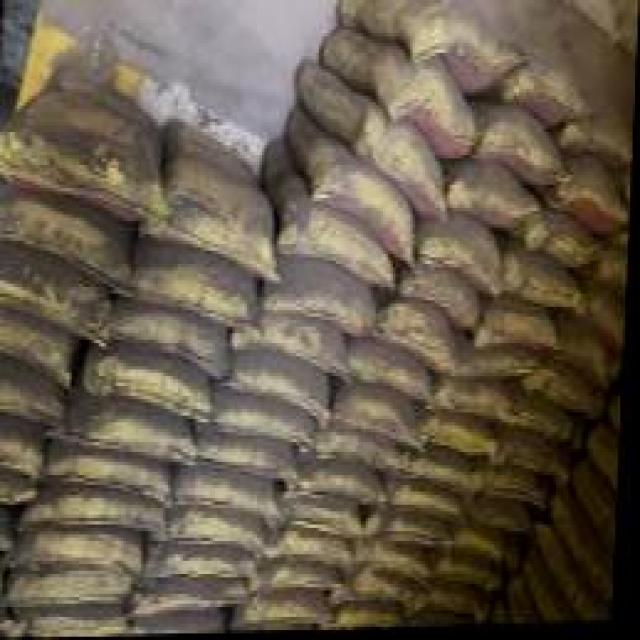gunny_bag: (296, 61, 445, 217), (319, 27, 474, 163), (0, 77, 147, 215), (148, 118, 276, 275), (263, 139, 394, 288), (287, 111, 417, 258), (337, 0, 512, 84), (0, 184, 130, 295), (0, 243, 112, 350), (134, 243, 260, 329), (85, 346, 213, 426), (113, 299, 232, 378), (71, 398, 197, 471), (262, 259, 376, 334), (15, 486, 170, 540), (413, 219, 504, 301), (236, 314, 353, 376), (43, 452, 175, 506), (376, 301, 461, 383), (542, 525, 610, 626), (474, 108, 562, 185), (10, 526, 143, 575), (232, 352, 337, 414), (550, 156, 628, 239), (556, 497, 613, 603), (447, 164, 539, 229), (207, 390, 312, 446), (333, 386, 423, 450), (179, 471, 281, 526), (292, 461, 386, 514), (202, 432, 293, 484), (520, 218, 597, 278), (352, 349, 435, 404), (0, 359, 67, 427), (150, 546, 259, 584), (557, 330, 619, 395), (514, 401, 586, 456), (576, 460, 622, 545), (478, 309, 557, 357), (506, 259, 580, 310), (435, 382, 515, 429), (526, 548, 572, 627), (236, 594, 334, 630), (287, 499, 365, 544), (474, 468, 550, 514), (357, 544, 429, 592), (369, 511, 449, 554), (279, 531, 354, 575), (406, 590, 492, 624), (433, 415, 494, 461), (409, 458, 476, 499), (444, 529, 506, 573), (477, 507, 531, 540)
